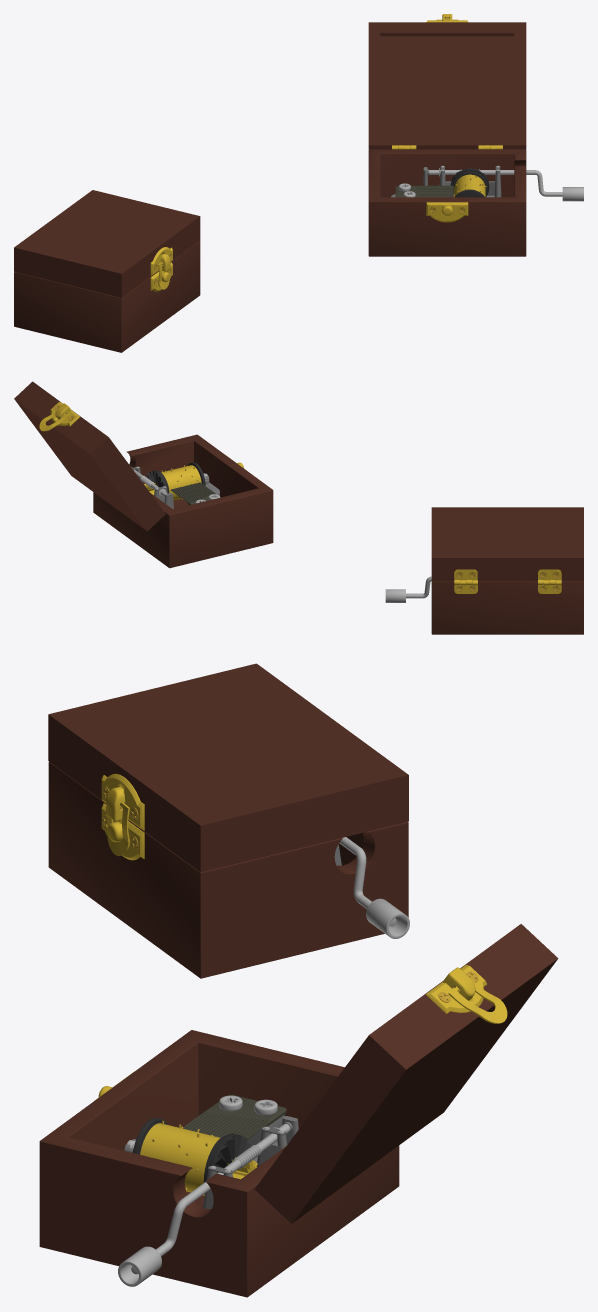
Rendered from xyz_course_work_music_box.glb.
3 views of the same model, one above another, from view 1: azimuth 30°, elevation 25°; view 2: azimuth 150°, elevation 25°; view 3: azimuth 270°, elevation 25° (orthographic). The views are drawn at different scales.
Visible parts, largest first — view 1: Cube.017_37, Cube.013_45, Cube_0, Cube.004_8, Cylinder.020_46, Cylinder.016_61, Cylinder.029_67, Cylinder.028_66, Cylinder.027_65; view 2: Cube.013_45, Cube_0, Cube.004_8, Cube.017_37, Cylinder.027_65, Cylinder.016_61, Cylinder.029_67, Cylinder.028_66; view 3: Cube.013_45, Cube_0, Cube.004_8, Cube.017_37, Cylinder.027_65, Cylinder.016_61, Cylinder.029_67, Cylinder.028_66, Cylinder.050_18, Cylinder.013_56, Plane.002_57, Cylinder.019_42 (+4 smaller).
Part boxes in pixels (left/top/right/bottom): Cube.017_37: left=368, top=22, right=526, bottom=149; Cube.013_45: left=368, top=149, right=526, bottom=256; Cube_0: left=14, top=190, right=200, bottom=297; Cube.004_8: left=14, top=241, right=200, bottom=352; Cylinder.020_46: left=426, top=202, right=468, bottom=222; Cylinder.016_61: left=395, top=185, right=453, bottom=197; Cylinder.029_67: left=450, top=167, right=489, bottom=197; Cylinder.028_66: left=391, top=167, right=501, bottom=197; Cylinder.027_65: left=454, top=174, right=485, bottom=196; Cube.013_45: left=93, top=434, right=273, bottom=568; Cube_0: left=431, top=507, right=583, bottom=581; Cube.004_8: left=431, top=581, right=583, bottom=634; Cube.017_37: left=14, top=381, right=165, bottom=531; Cylinder.027_65: left=161, top=465, right=201, bottom=500; Cylinder.016_61: left=171, top=482, right=220, bottom=504; Cylinder.029_67: left=146, top=462, right=205, bottom=493; Cylinder.028_66: left=136, top=468, right=219, bottom=508; Cube.013_45: left=39, top=1030, right=399, bottom=1297; Cube_0: left=48, top=663, right=408, bottom=872; Cube.004_8: left=48, top=761, right=408, bottom=978; Cube.017_37: left=254, top=924, right=558, bottom=1223; Cylinder.027_65: left=140, top=1123, right=220, bottom=1195; Cylinder.016_61: left=183, top=1095, right=286, bottom=1138; Cylinder.029_67: left=132, top=1117, right=251, bottom=1182; Cylinder.028_66: left=124, top=1114, right=298, bottom=1208; Cylinder.050_18: left=366, top=898, right=409, bottom=938; Cylinder.013_56: left=118, top=1246, right=161, bottom=1286; Plane.002_57: left=131, top=1164, right=234, bottom=1274; Cylinder.019_42: left=448, top=979, right=507, bottom=1023.
Bounding box in the file's own units: 16.04 × 4.37 × 6.77.
